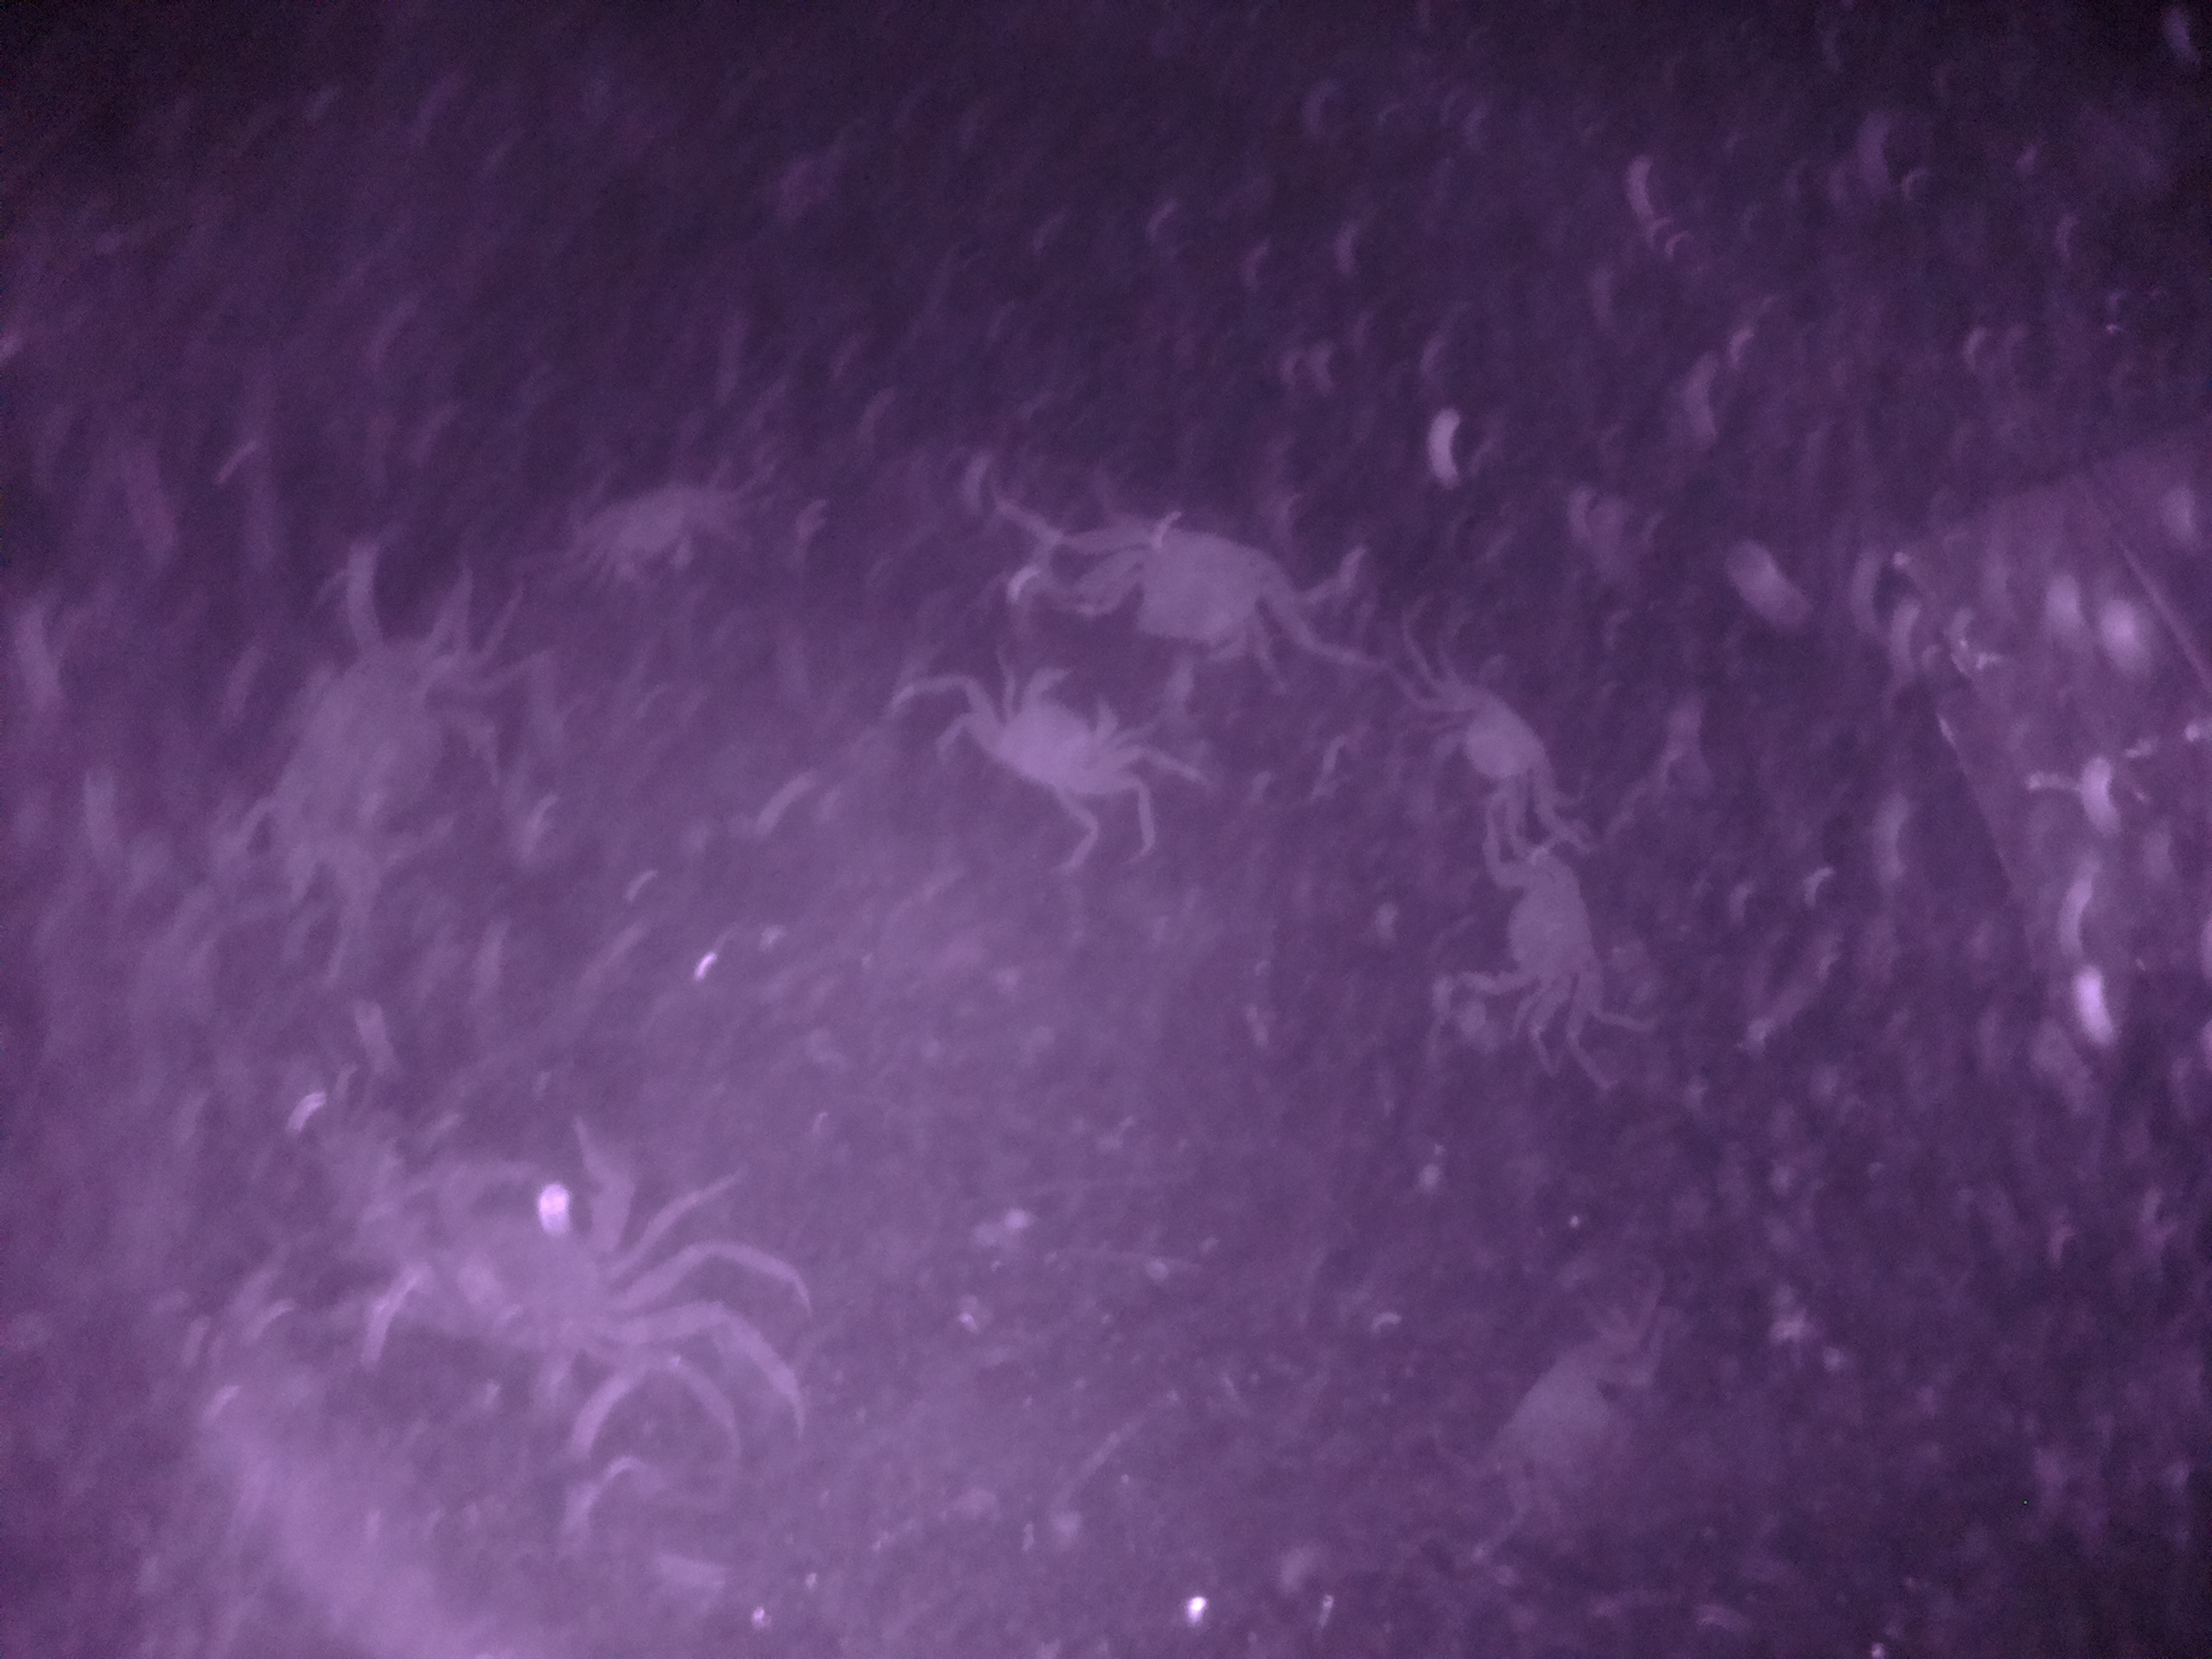Crab: (1120, 486, 1313, 688), (1458, 823, 1630, 1030), (967, 671, 1144, 817), (1413, 683, 1585, 816)
